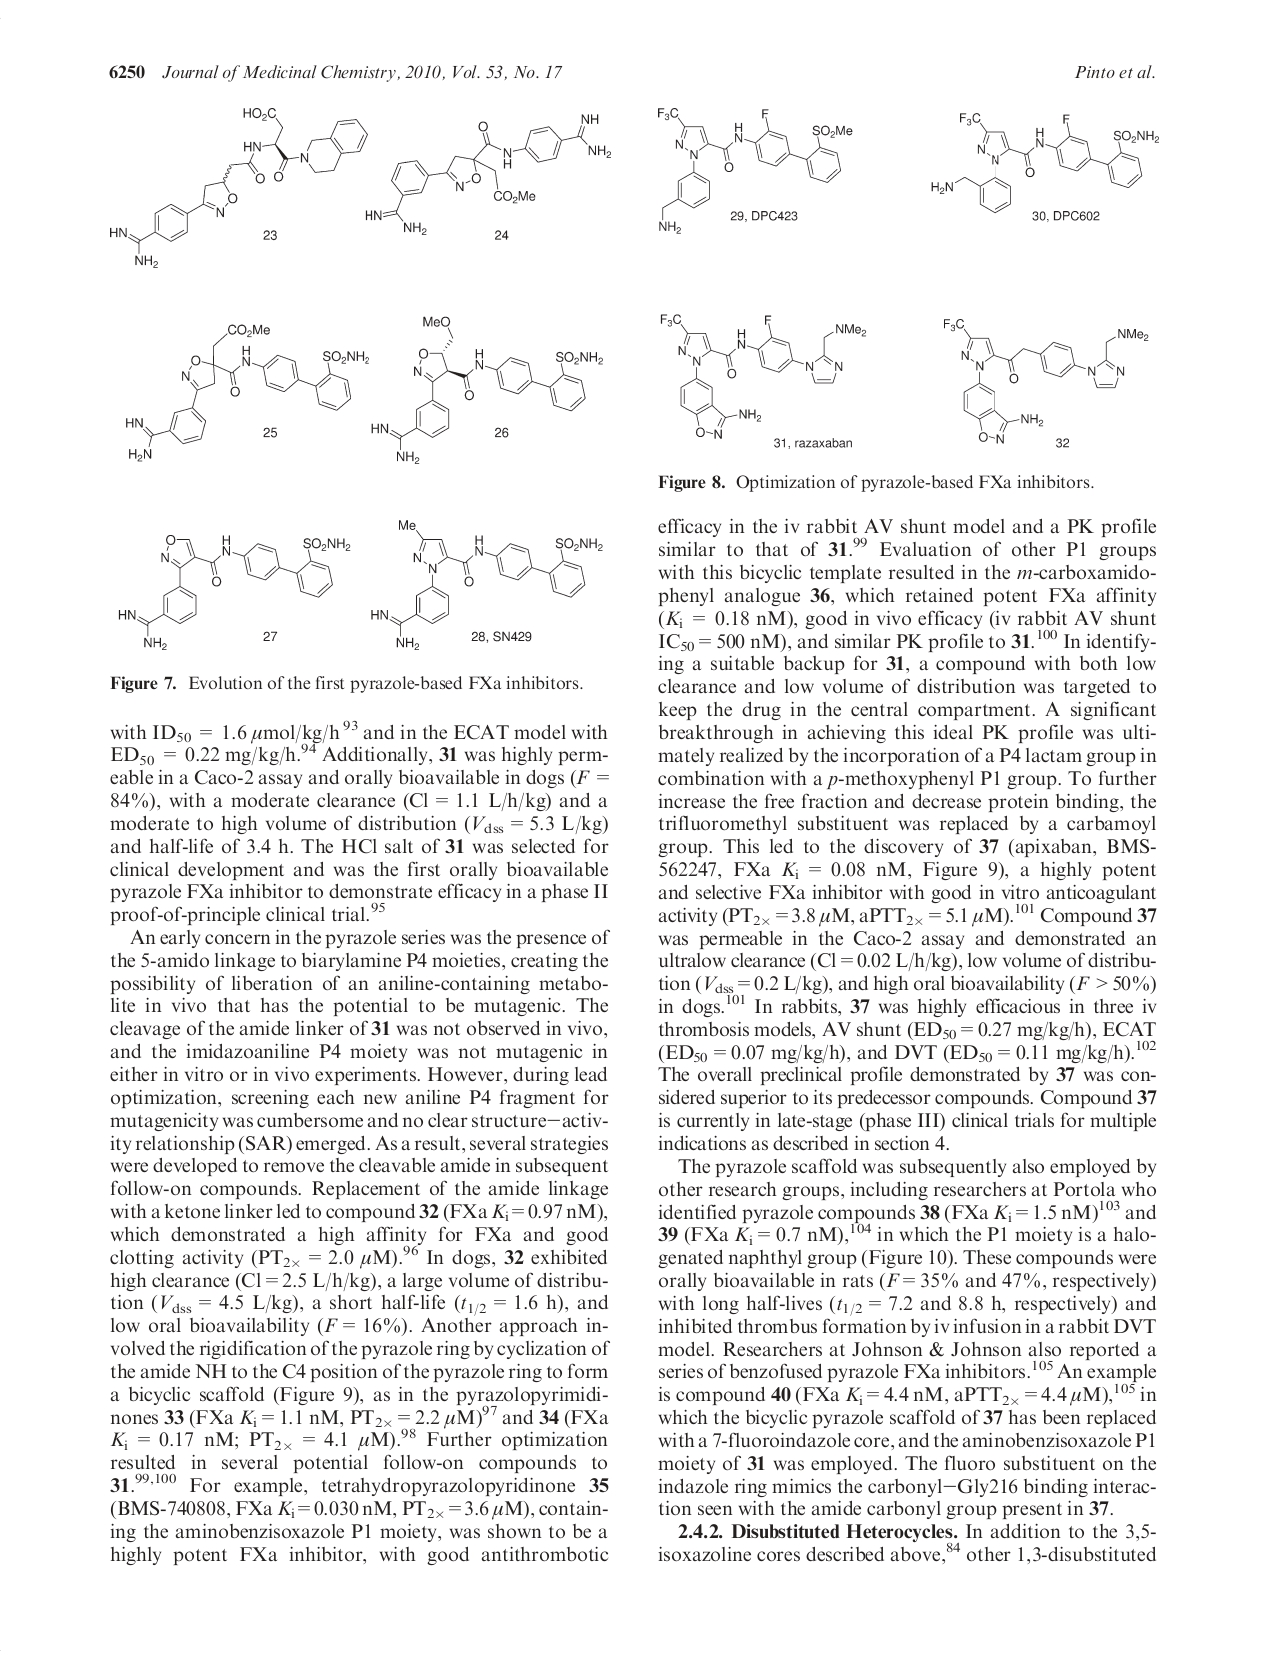exist_molecular: (104, 100, 382, 270), (122, 313, 371, 464), (368, 307, 606, 464), (364, 110, 622, 246), (368, 517, 608, 650), (114, 524, 358, 653), (652, 93, 864, 239), (939, 309, 1152, 449), (926, 101, 1178, 211), (661, 310, 872, 439)
